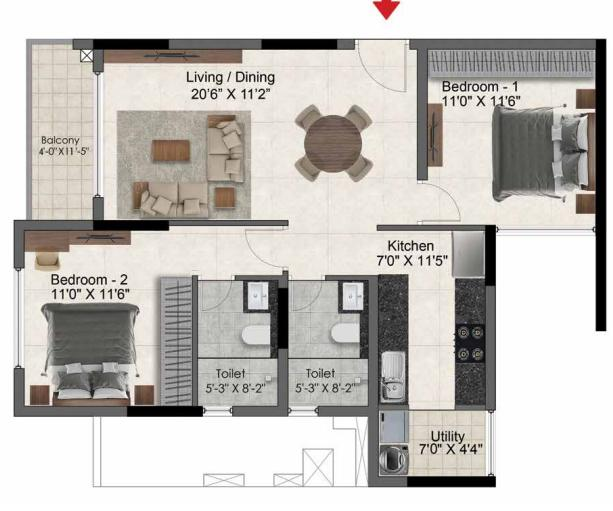Balcony: (31, 47, 97, 216)
Bed: (46, 301, 139, 405), (495, 104, 594, 197)
Bedroom: (19, 226, 194, 413), (420, 44, 594, 231)
Dining Room: (287, 52, 417, 222)
Dining table: (291, 97, 380, 191)
Kitchen: (375, 231, 490, 413)
Living Room: (100, 48, 284, 221)
Sofa: (135, 177, 209, 221), (207, 115, 246, 184)
Wardrobe: (428, 49, 595, 77), (162, 276, 193, 406)
commode: (331, 323, 360, 343), (242, 325, 271, 345)
door: (355, 44, 411, 94), (415, 180, 465, 226), (246, 229, 287, 275)
fridge: (452, 233, 484, 277)
kitchen-slab: (456, 276, 489, 408), (376, 275, 408, 406)
sink: (379, 351, 407, 403), (245, 278, 271, 309), (341, 284, 365, 310)
stove: (454, 324, 485, 363)
toilet: (198, 276, 286, 415), (290, 280, 369, 413)
tv: (115, 47, 228, 68), (66, 229, 132, 246)
utility: (372, 414, 492, 486)
washing-machine: (379, 444, 409, 478)
